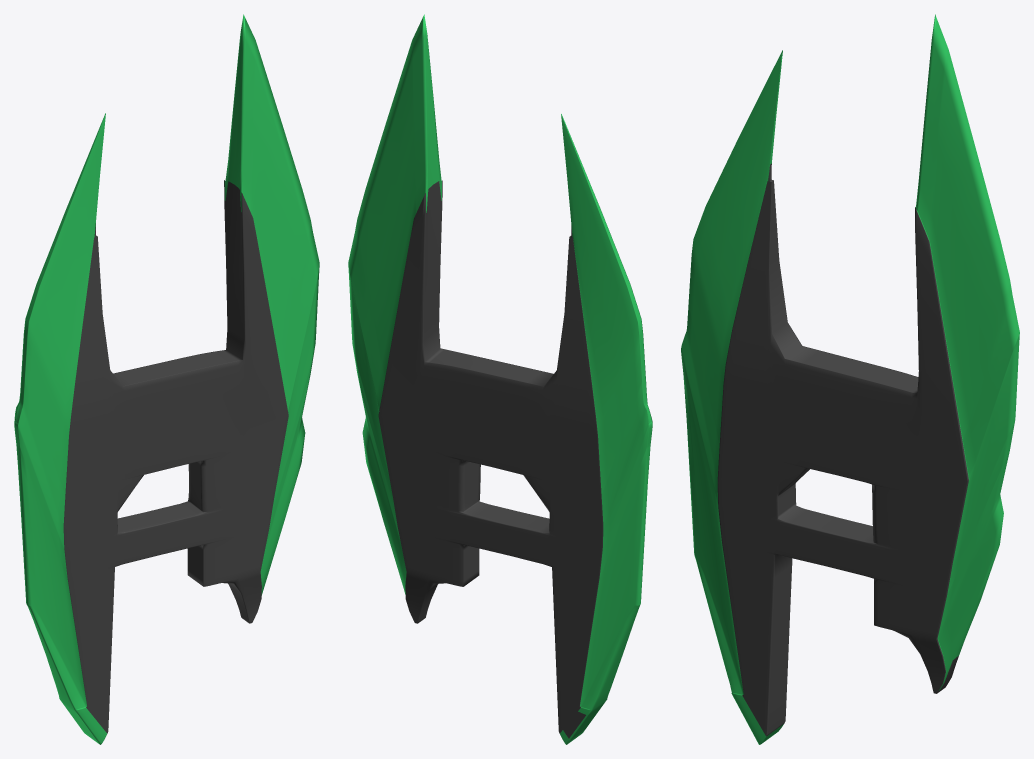
The model's file is Hoja doble.fbx.
3 views of the same model, side by side, from view 1: azimuth 30°, elevation 25°; view 2: azimuth 150°, elevation 25°; view 3: azimuth 330°, elevation 25° (orthographic). The views are drawn at different scales.
Parts seen in each view (by area): view 1: pCube1; view 2: pCube1; view 3: pCube1.
Part boxes in pixels (x1,y1,x2,y2): pCube1: (14, 14, 319, 744); pCube1: (348, 14, 652, 744); pCube1: (681, 14, 1019, 744).
Bounding box in the file's own units: 1.69 × 3.67 × 0.1744.
